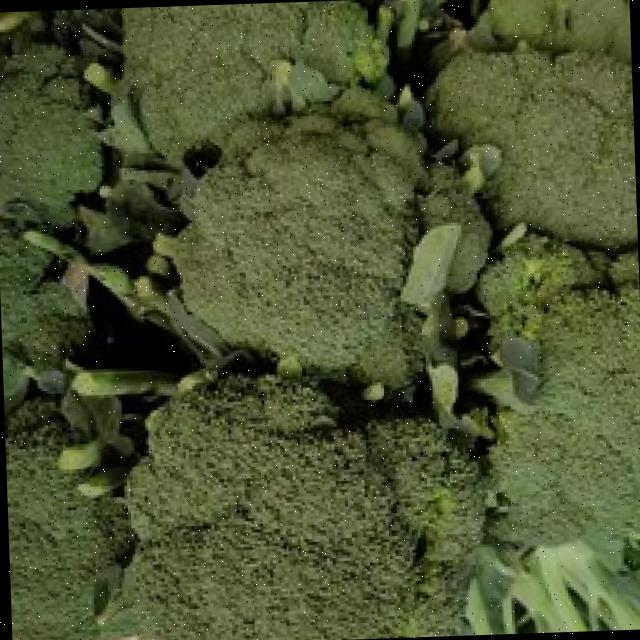Broccoli: (125, 374, 482, 640), (126, 374, 482, 640), (175, 112, 419, 385), (175, 112, 418, 385), (426, 47, 637, 247), (121, 0, 385, 159), (121, 0, 385, 158), (489, 286, 640, 542), (489, 288, 640, 542), (3, 397, 134, 640), (3, 397, 132, 640), (0, 42, 100, 204), (0, 42, 100, 203)
